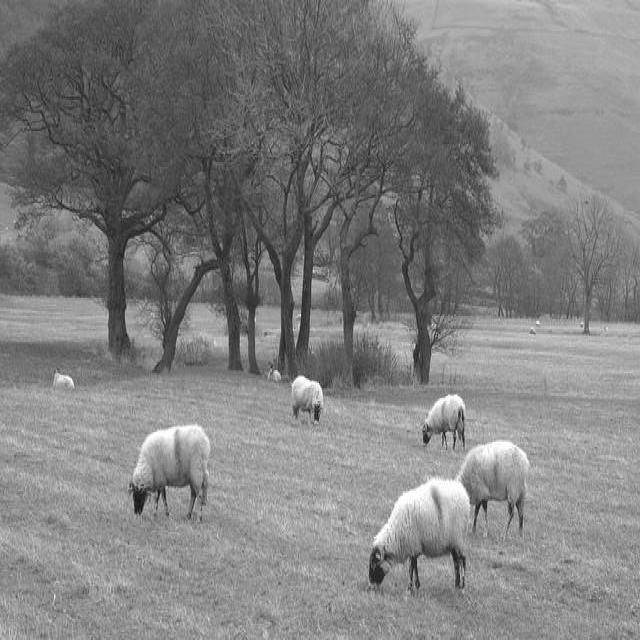Sheep: (369, 476, 471, 594), (126, 424, 213, 527), (455, 442, 530, 542), (422, 396, 465, 454)
